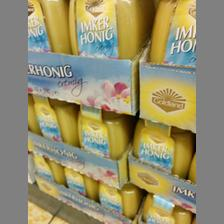Honig: (68, 0, 140, 58), (132, 118, 192, 178), (76, 104, 134, 160), (31, 94, 78, 149), (26, 0, 69, 52), (97, 178, 141, 214), (62, 166, 98, 200), (30, 153, 61, 187)
